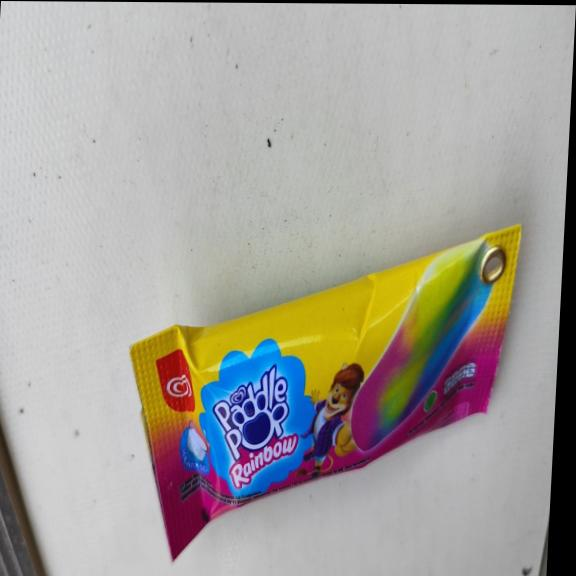Plastik: (114, 218, 521, 563)
